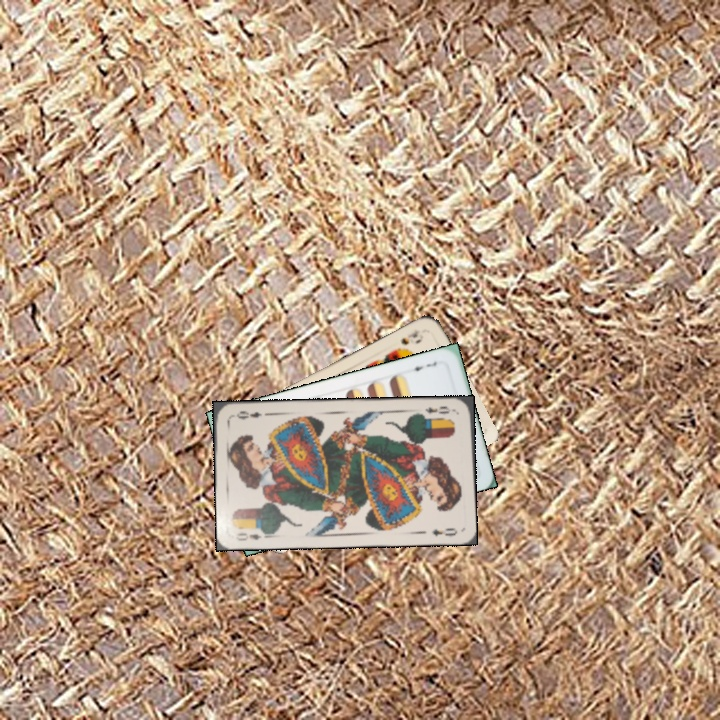E7: (405, 357, 440, 374)
EO: (232, 525, 272, 543), (421, 402, 457, 417)
S10: (397, 325, 423, 347)
